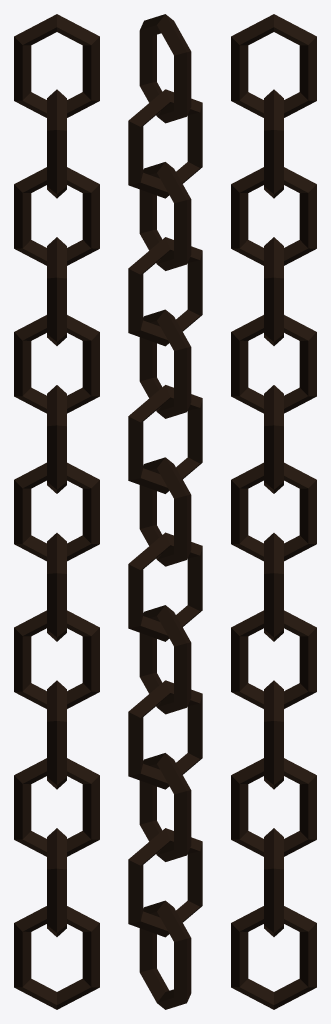
File: SFFA_Chain_002.fbx
3 renders of one model, left to right at view 1: azimuth 90°, elevation 25°; view 2: azimuth 210°, elevation 25°; view 3: azimuth 270°, elevation 25°, orthographic.
Parts seen in each view (by area): view 1: SFFA_Chain_002; view 2: SFFA_Chain_002; view 3: SFFA_Chain_002.
Boxes of the visible parts, bbox=[...] form: SFFA_Chain_002: bbox=[14, 14, 99, 1009]; SFFA_Chain_002: bbox=[128, 14, 202, 1009]; SFFA_Chain_002: bbox=[231, 14, 316, 1009].
Size of the model in its own units: 12.43 by 159 by 12.43.
